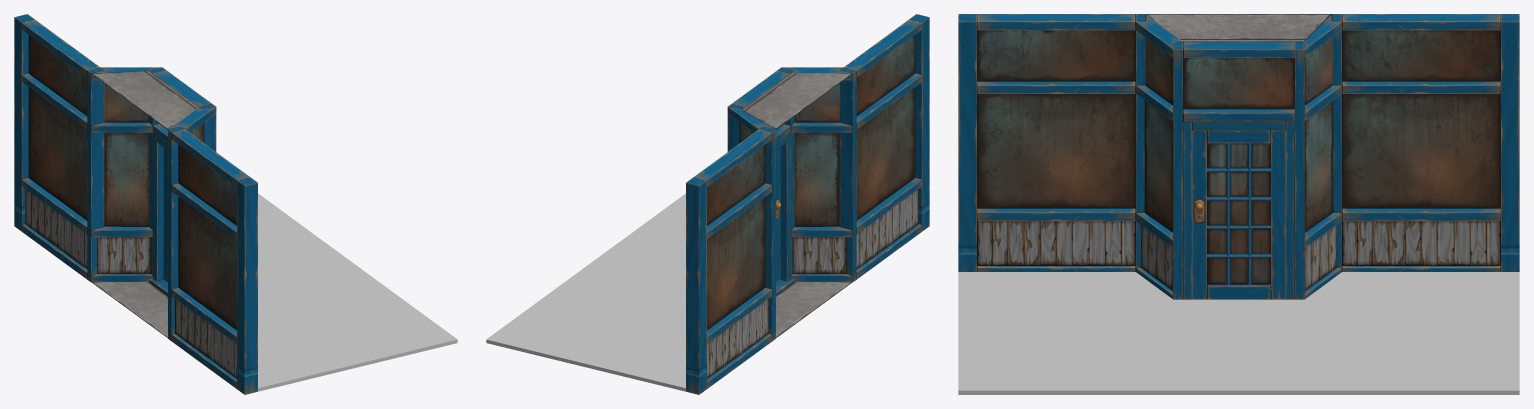
The model's file is storeFront03.FBX.
The picture shows the model from 3 angles, left to right: view 1: azimuth 30°, elevation 25°; view 2: azimuth 150°, elevation 25°; view 3: azimuth 270°, elevation 25°; orthographic projection. The views are drawn at different scales.
Parts seen in each view (by area): view 1: storeFront03, storeFront03_glass01, storeFront03_glass04, storeFront03_glass02, storeFront03_glass05, storeFront03_glass09, storeFront03_glass06, storeFront03_door; view 2: storeFront03, storeFront03_glass04, storeFront03_glass01, storeFront03_glass03, storeFront03_glass09, storeFront03_glass05, storeFront03_glass08, storeFront03_door; view 3: storeFront03, storeFront03_glass01, storeFront03_glass04, storeFront03_door, storeFront03_glass05, storeFront03_glass09, storeFront03_door_glass, storeFront03_glass07, storeFront03_glass03, storeFront03_glass02, storeFront03_glass08, storeFront03_glass06.
Boxes of the visible parts, x1,y1,x2,y2 form: storeFront03: [14, 14, 457, 394]; storeFront03_glass01: [28, 87, 87, 220]; storeFront03_glass04: [178, 197, 236, 330]; storeFront03_glass02: [104, 132, 149, 226]; storeFront03_glass05: [28, 35, 87, 115]; storeFront03_glass09: [178, 144, 236, 225]; storeFront03_glass06: [104, 83, 149, 122]; storeFront03_door: [163, 147, 167, 282]; storeFront03: [486, 14, 929, 394]; storeFront03_glass04: [856, 87, 915, 220]; storeFront03_glass01: [707, 197, 765, 330]; storeFront03_glass03: [794, 132, 839, 226]; storeFront03_glass09: [856, 35, 915, 115]; storeFront03_glass05: [707, 144, 765, 225]; storeFront03_glass08: [794, 83, 839, 122]; storeFront03_door: [776, 147, 780, 282]; storeFront03: [958, 14, 1519, 394]; storeFront03_glass01: [1342, 94, 1500, 208]; storeFront03_glass04: [977, 94, 1135, 208]; storeFront03_door: [1192, 130, 1285, 299]; storeFront03_glass05: [1342, 30, 1500, 81]; storeFront03_glass09: [977, 30, 1135, 81]; storeFront03_door_glass: [1207, 143, 1270, 284]; storeFront03_glass07: [1183, 58, 1294, 109]; storeFront03_glass03: [1144, 100, 1173, 232]; storeFront03_glass02: [1304, 100, 1333, 232]; storeFront03_glass08: [1145, 37, 1173, 105]; storeFront03_glass06: [1304, 37, 1332, 105].
Size of the model in its own units: 320 by 300 by 600.
